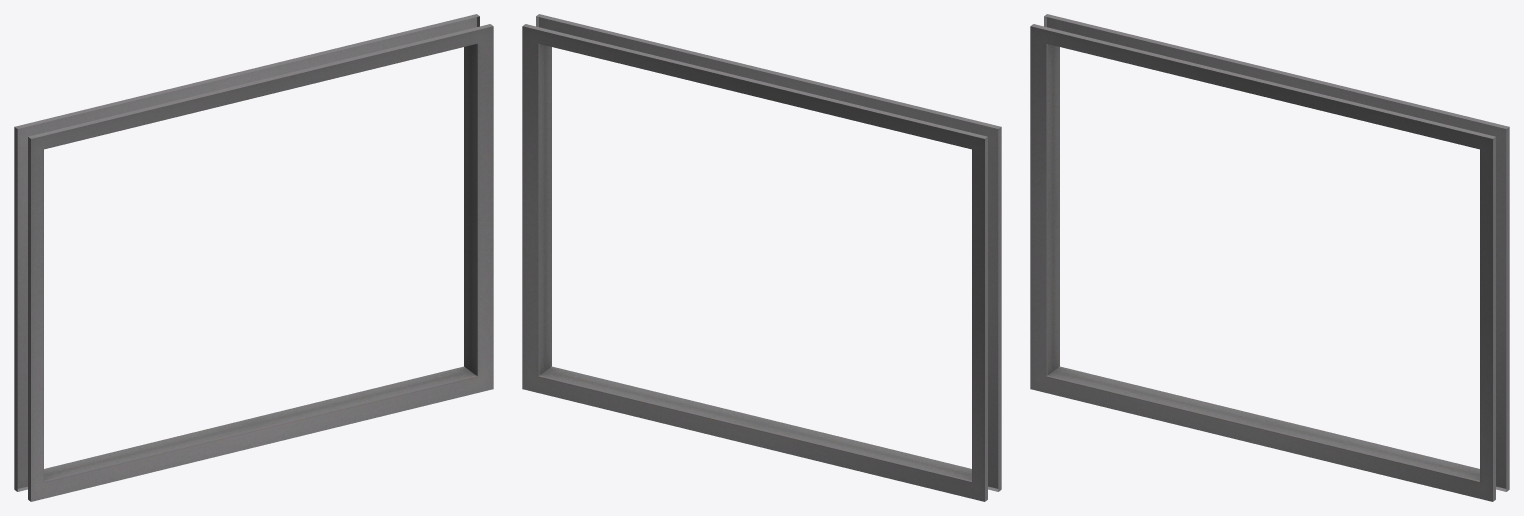
The model's file is props_2fort_window004d.glb.
The picture shows the model from 3 angles, left to right: view 1: azimuth 30°, elevation 25°; view 2: azimuth 150°, elevation 25°; view 3: azimuth 330°, elevation 25°; orthographic projection.
Visible parts, largest first — view 1: models/props_2fort/window004d; view 2: models/props_2fort/window004d; view 3: models/props_2fort/window004d.
Part boxes in pixels (x1,y1,x2,y2): models/props_2fort/window004d: (14,14,493,501); models/props_2fort/window004d: (522,14,1001,501); models/props_2fort/window004d: (1030,14,1509,501).
Size of the model in its own units: 128 by 96 by 8.
1 material, 1 textured.
